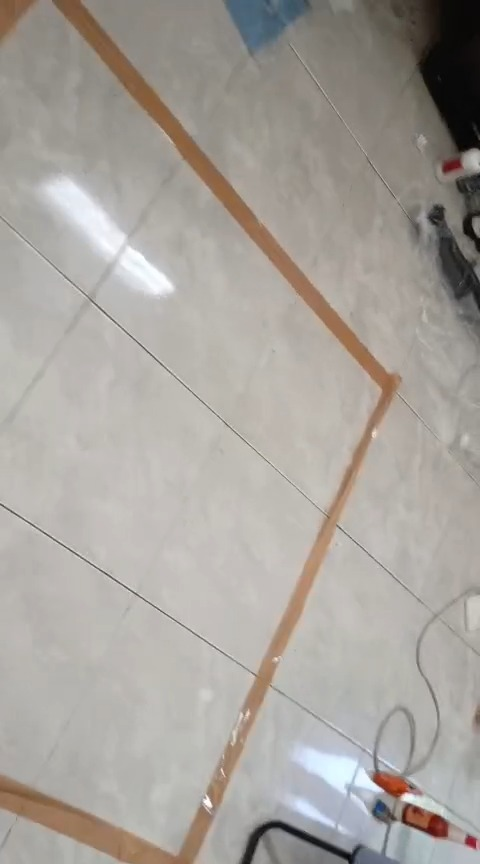floor marking: (0, 0, 399, 863), (0, 0, 37, 41)
